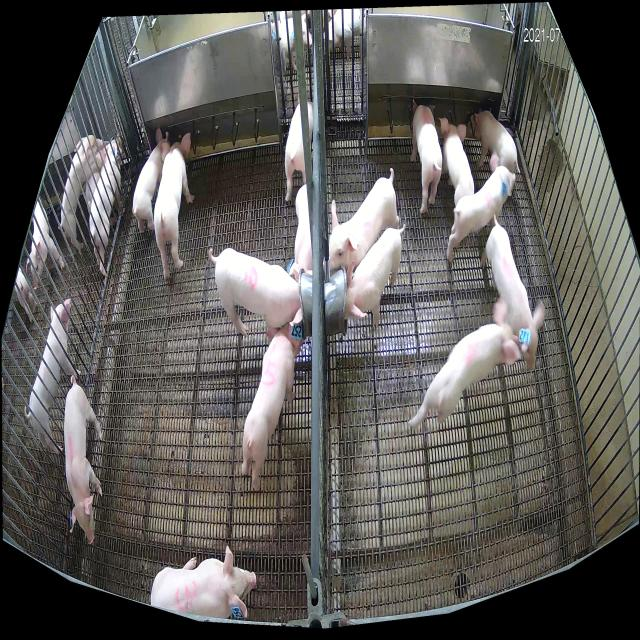pig: (408, 297, 521, 428), (242, 325, 304, 491), (480, 214, 545, 370), (209, 248, 302, 339), (151, 542, 256, 618), (447, 151, 515, 261), (329, 168, 400, 272), (64, 375, 103, 544), (344, 224, 406, 328), (154, 132, 194, 279), (132, 128, 170, 232), (410, 100, 442, 213), (466, 108, 520, 174), (438, 118, 474, 206), (285, 91, 313, 202), (288, 183, 312, 283)
